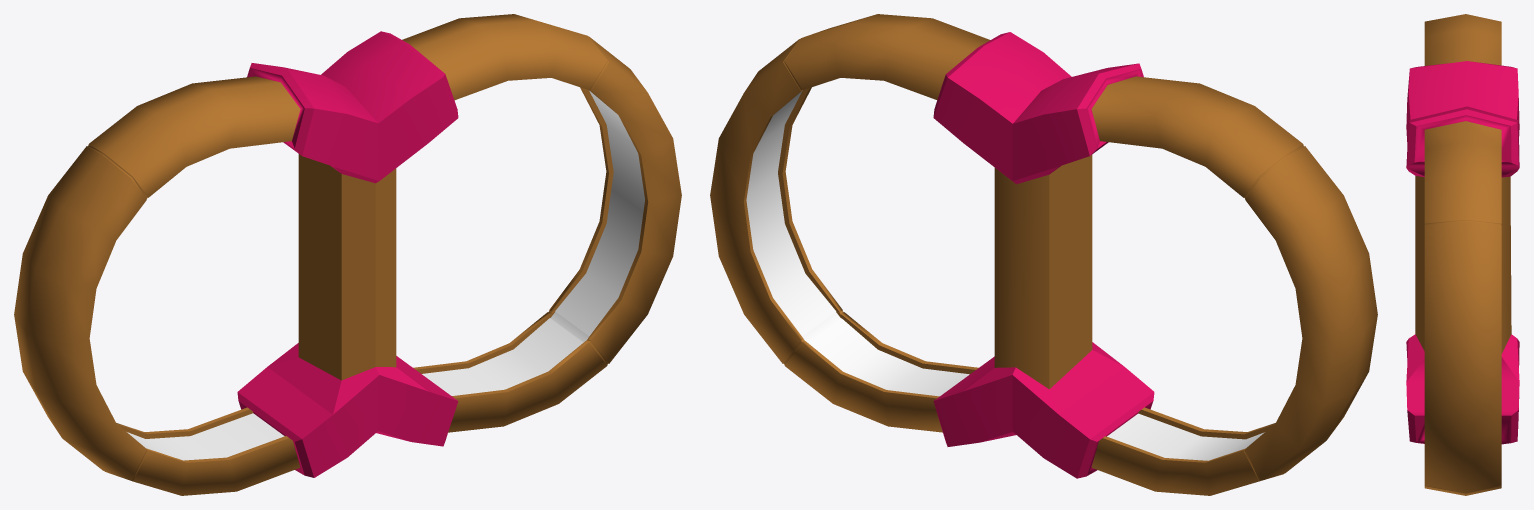
File: OBS0110017.fbx
The picture shows the model from 3 angles, left to right: view 1: azimuth 30°, elevation 25°; view 2: azimuth 150°, elevation 25°; view 3: azimuth 270°, elevation 25°; orthographic projection. The views are drawn at different scales.
Visible parts, largest first — view 1: smOBS0110017; view 2: smOBS0110017; view 3: smOBS0110017.
Boxes of the visible parts, <box> form: smOBS0110017: <box>14,14,681,495</box>; smOBS0110017: <box>710,14,1377,495</box>; smOBS0110017: <box>1406,14,1519,495</box>.
Size of the model in its own units: 512 by 301 by 90.98.
1 material, 1 textured.
